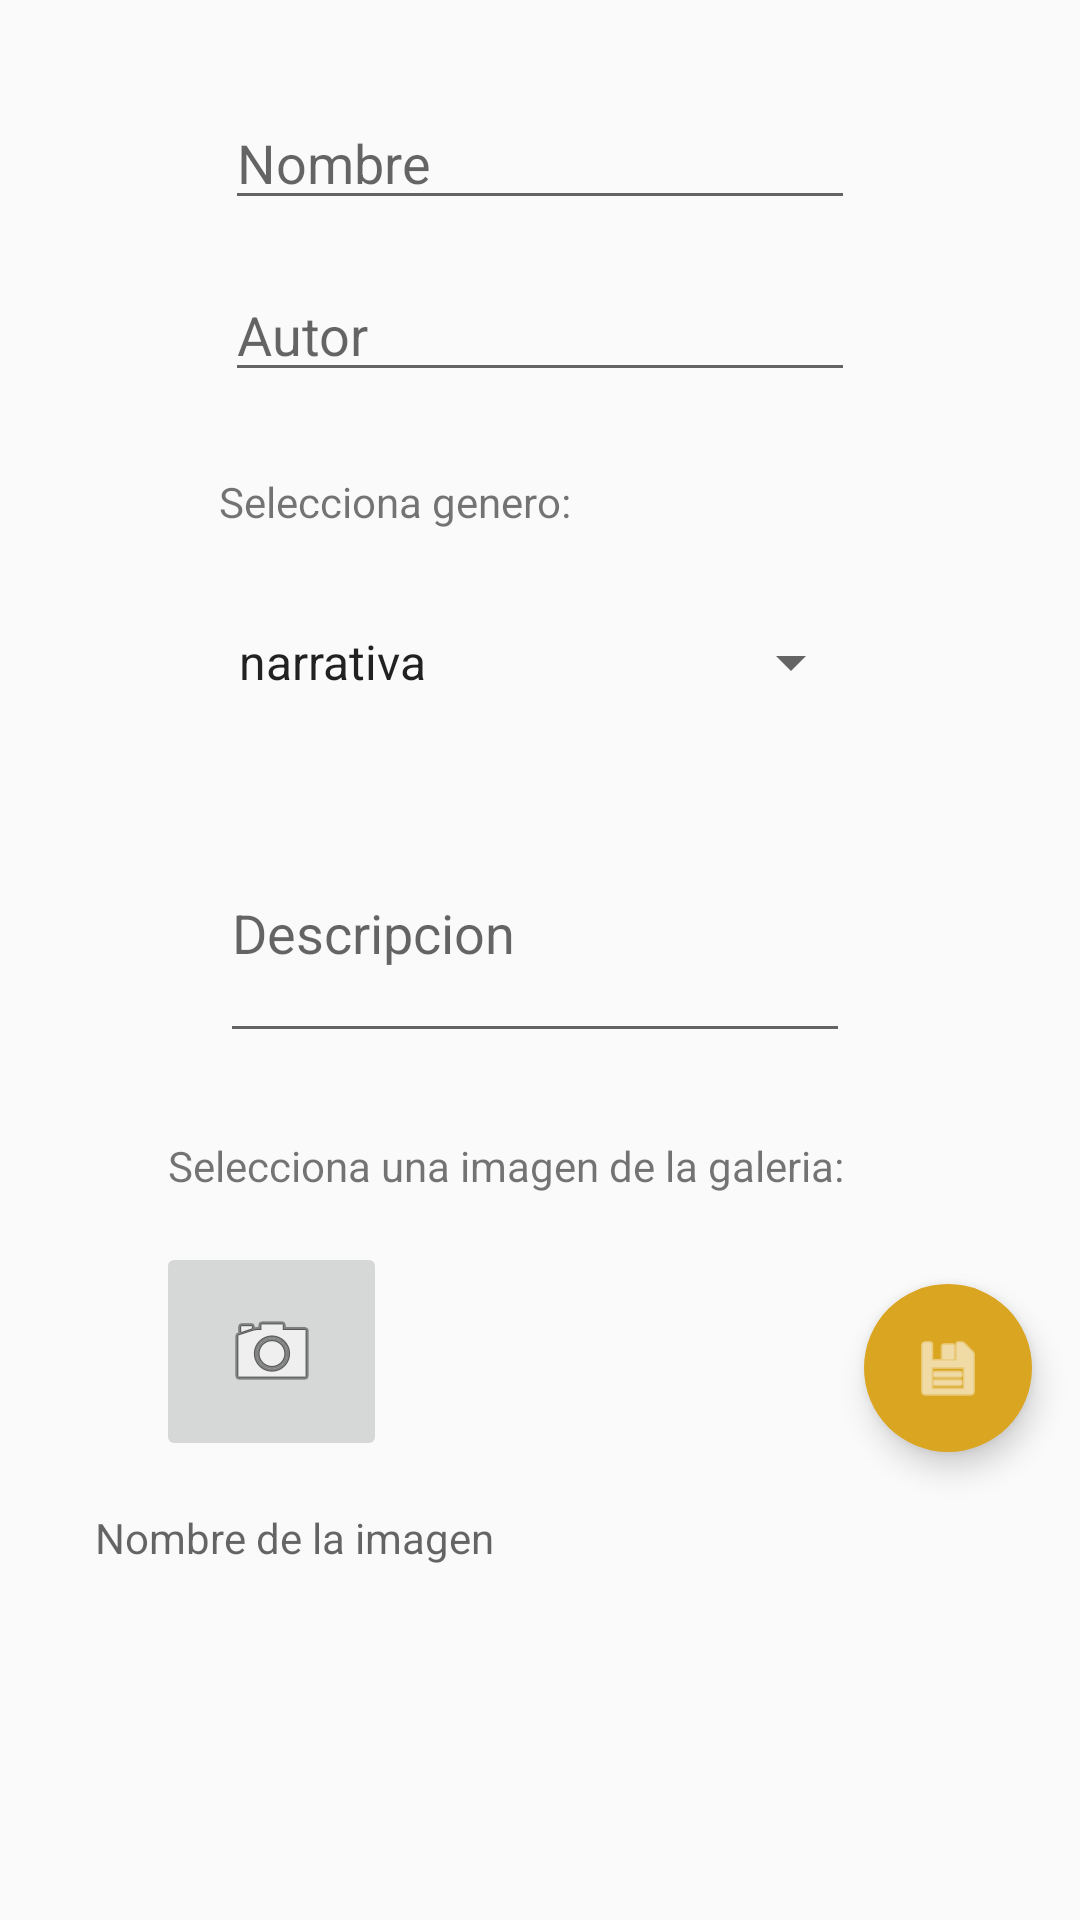

Where icons sit on this 1080*1920 app screen, as (x1, y1, x2, y2):
camera: (168, 1260, 375, 1443)
save: (864, 1284, 1032, 1452)
